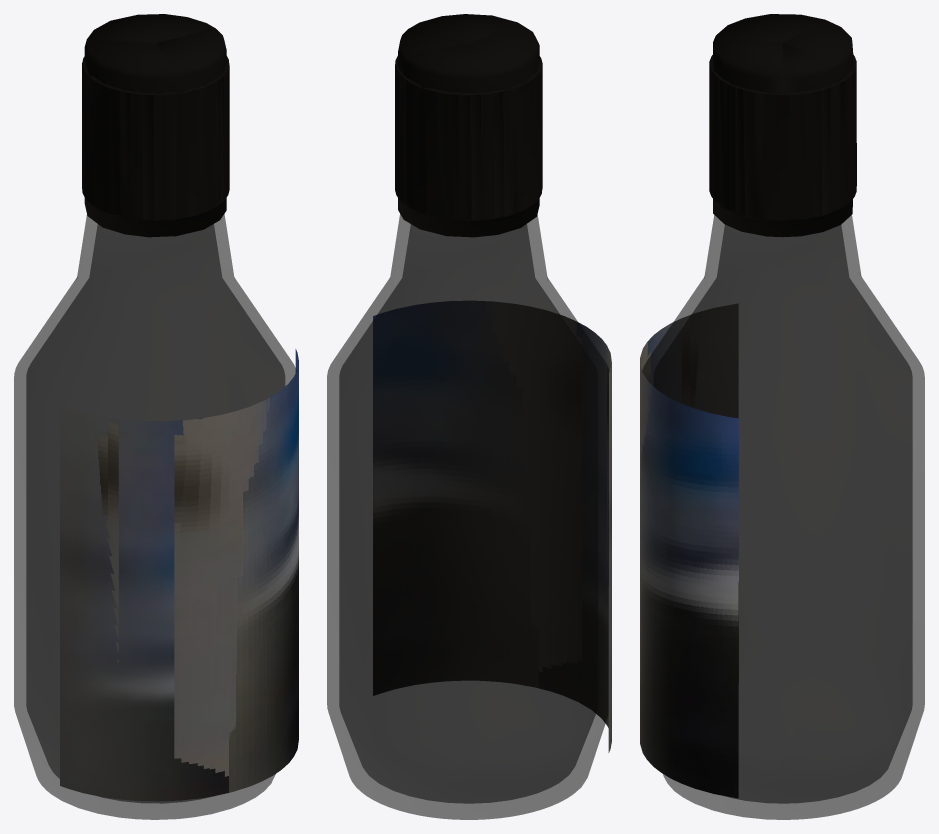
3 renders of one model, left to right at view 1: azimuth 30°, elevation 25°; view 2: azimuth 150°, elevation 25°; view 3: azimuth 270°, elevation 25°, orthographic.
Visible parts, largest first — view 1: small_dark_bottle__body, small_dark_bottle__cap; view 2: small_dark_bottle__body, small_dark_bottle__cap; view 3: small_dark_bottle__body, small_dark_bottle__cap.
Part boxes in pixels (left/top/right/bottom): small_dark_bottle__body: left=14, top=214, right=298, bottom=819; small_dark_bottle__cap: left=82, top=14, right=229, bottom=237; small_dark_bottle__body: left=327, top=214, right=611, bottom=819; small_dark_bottle__cap: left=395, top=14, right=542, bottom=237; small_dark_bottle__body: left=640, top=215, right=924, bottom=819; small_dark_bottle__cap: left=709, top=14, right=856, bottom=237.
Bounding box in the file's own units: 0.0277 × 0.0782 × 0.0278.
Materials: 3 (1 with a texture image).
